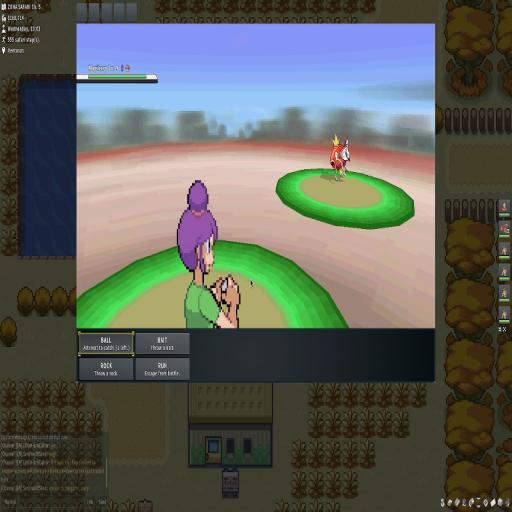FIGHTBAR: (78, 331, 191, 381)
MAGIKARP: (329, 134, 349, 180)
